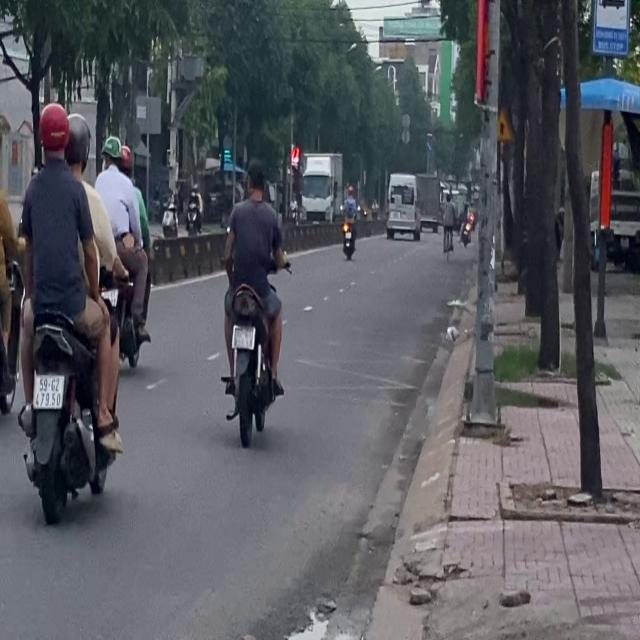helmet: (36, 101, 70, 162), (65, 111, 91, 175), (101, 134, 122, 168), (118, 144, 134, 176)
licenseplate: (12, 99, 126, 523), (216, 156, 287, 443), (94, 133, 152, 374), (0, 134, 16, 422)
motorcyclist: (244, 158, 267, 198)
nohelmet: (34, 373, 64, 407), (232, 325, 254, 348)
